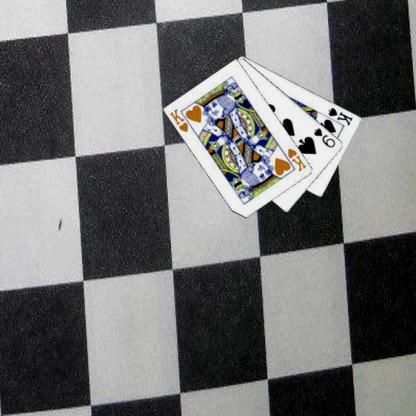9S: (311, 125, 337, 148)
KH: (285, 145, 308, 173), (167, 106, 190, 134)
KS: (326, 105, 354, 127)
